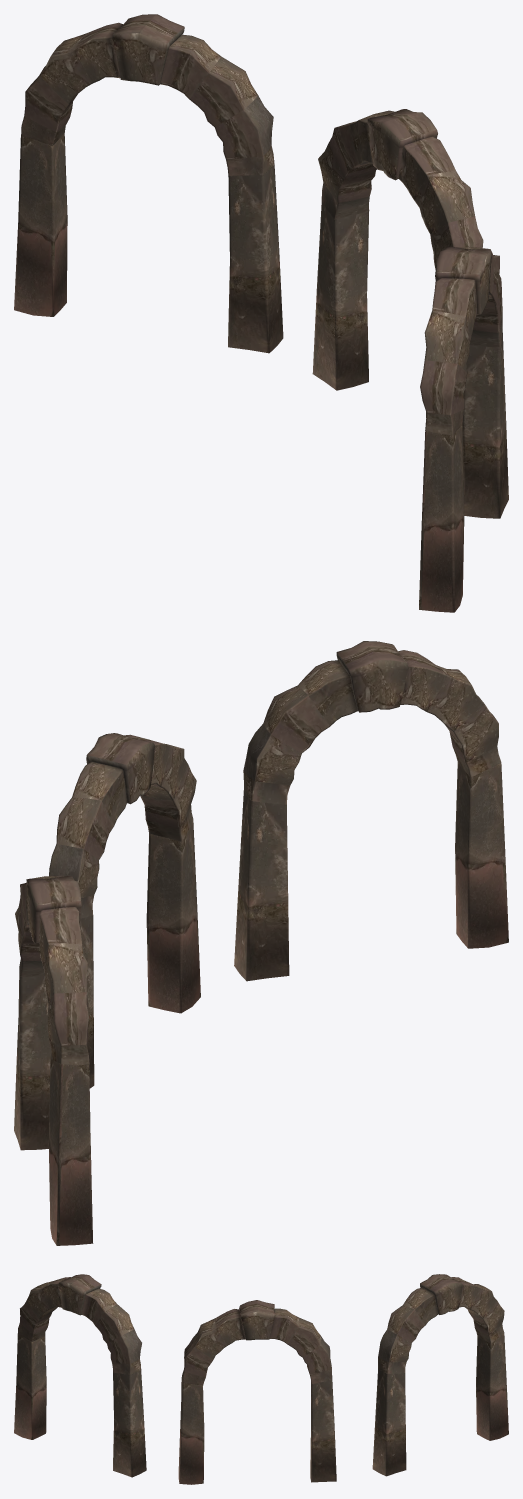
Rendered from gateways-draco-transformed.glb.
The picture shows the model from 3 angles, top to bottom: view 1: azimuth 30°, elevation 25°; view 2: azimuth 150°, elevation 25°; view 3: azimuth 270°, elevation 25°; orthographic projection. The views are drawn at different scales.
Visible parts, largest first — view 1: StoneGateway.003; view 2: StoneGateway.003; view 3: StoneGateway.003.
Part boxes in pixels (x1,y1,x2,y2): StoneGateway.003: (14,14,508,612); StoneGateway.003: (14,641,508,1245); StoneGateway.003: (14,1274,508,1484).
Size of the model in its own units: 2.82 by 3.98 by 10.24.
1 material, 1 textured.
